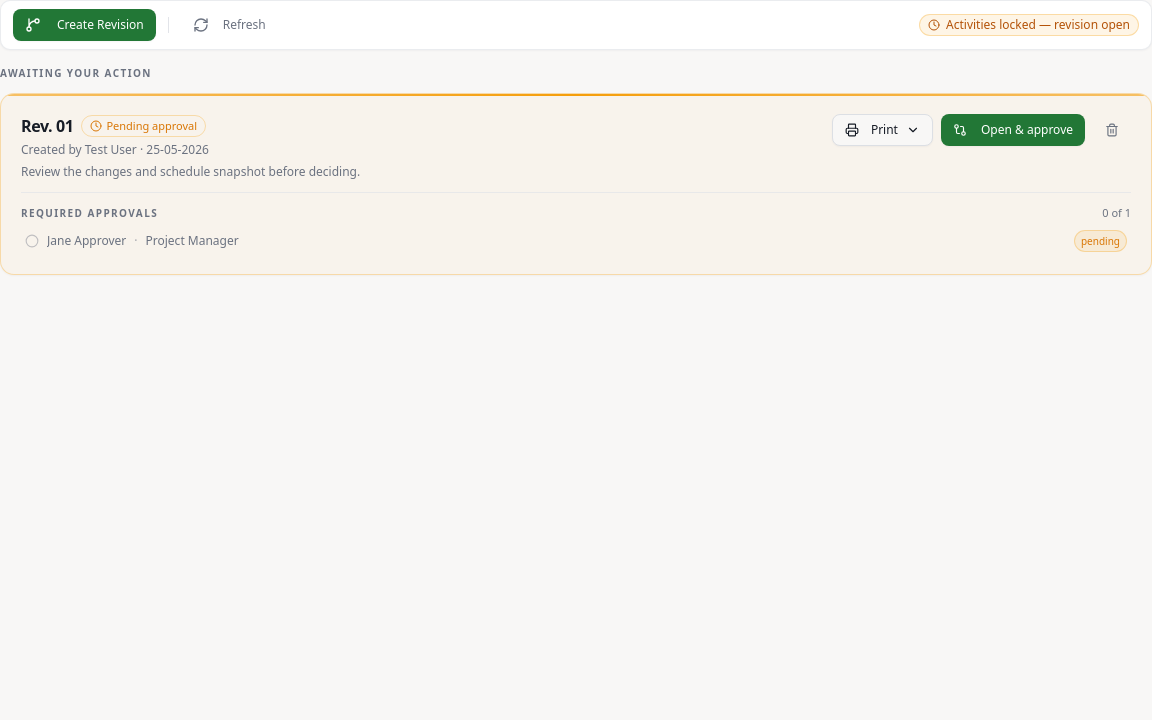
it: RevisionList › shows Create Revision dialog when button clicked
Click the button "Create Revision": (84, 25) [13,9,156,41]
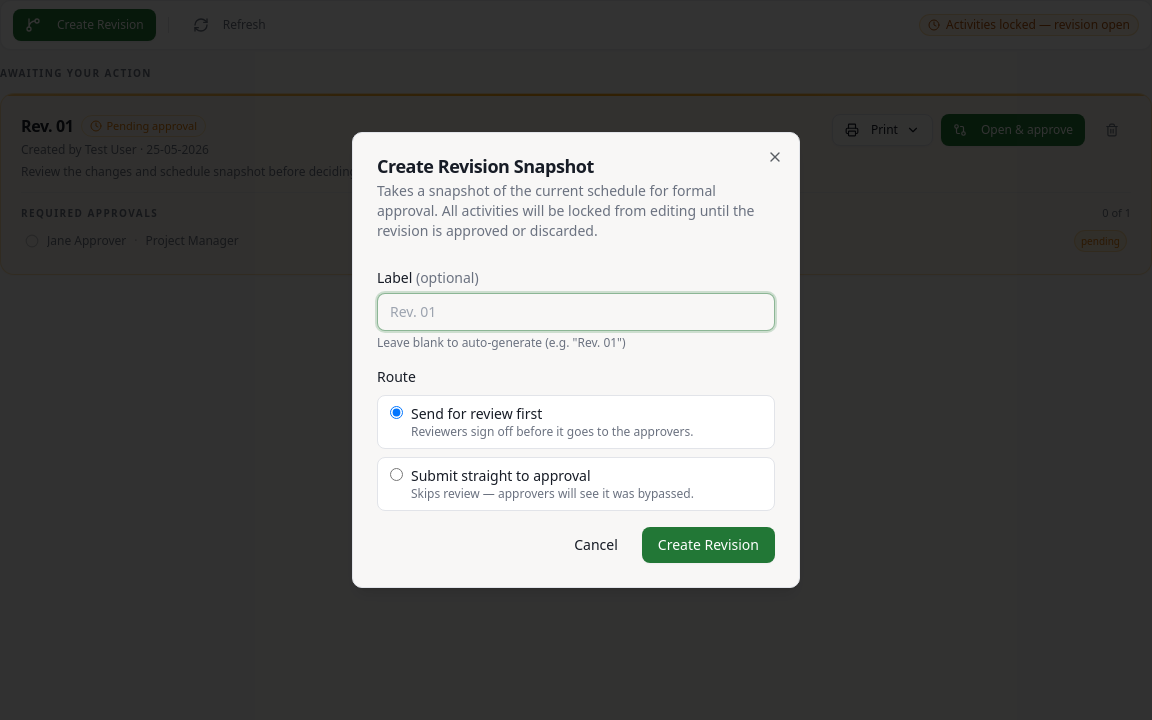
Check: the dialog is shown, box [352,132,800,588]
Check: the heading "Create Revision Snapshot" is shown, box [377,154,594,178]
